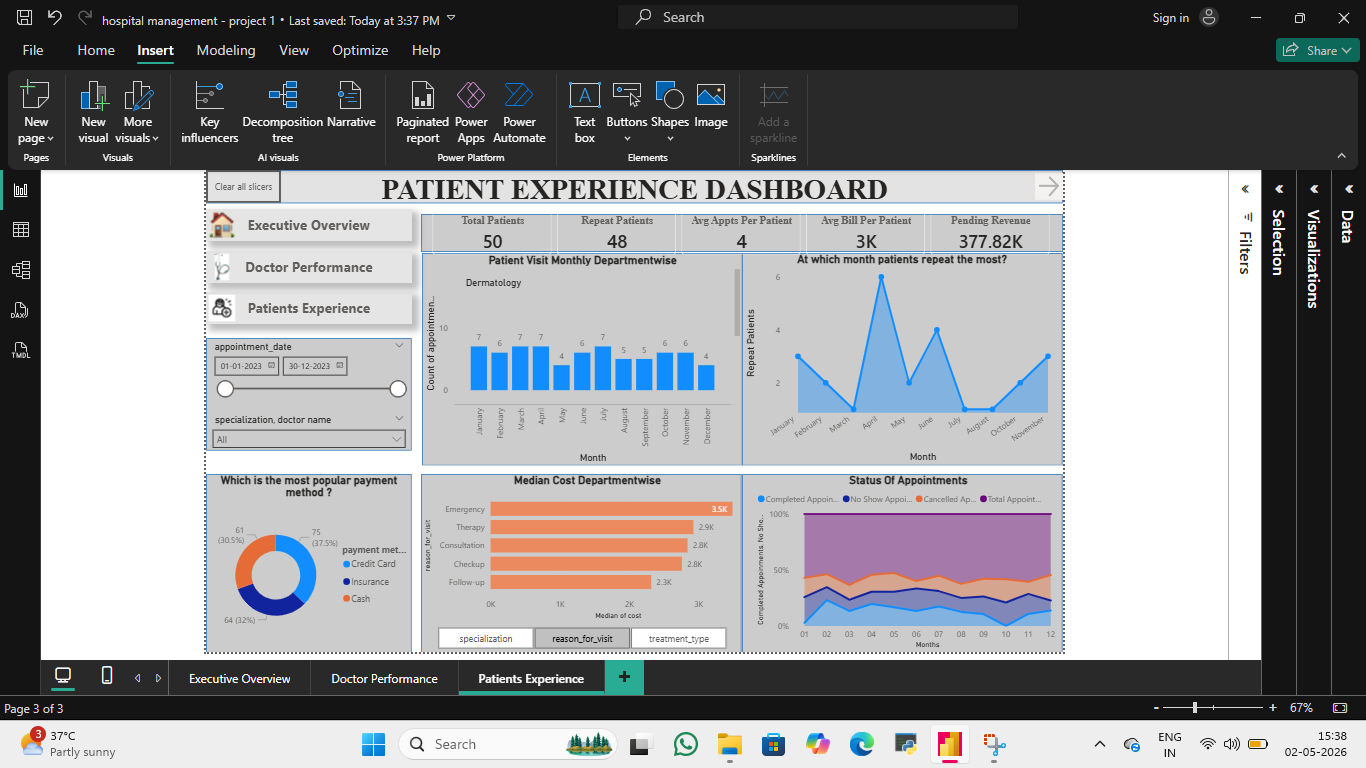

Layout of this report page (visuals, bound fields, positions):
{"tool":"powerbi","page":{"name":"Patients Experience","canvas":[1280,720],"ordinal":2},"visuals":[{"type":"shape","box":[0,0,1280,49.8],"z":0},{"type":"shape","box":[320.9,65.2,959.1,56.6],"z":0,"group":"g1"},{"type":"group","id":"g1","title":"Background","box":[0,65.2,1280,655.4],"z":1000},{"type":"textbox","box":[0,0,1280.2,65.7],"z":2000},{"type":"shape","box":[322.6,123.2,478.7,317.4],"z":2000,"group":"g1"},{"type":"shape","box":[801.3,453,478.7,267.7],"z":3000,"group":"g1"},{"type":"shape","box":[801.3,123.5,478.7,317.4],"z":4000},{"type":"shape","box":[320.9,453,478.7,267.7],"z":4000,"group":"g1"},{"type":"actionButton","box":[0,0,112,49.3],"z":5000},{"type":"shape","box":[0,453,307.1,267.7],"z":5000,"group":"g1"},{"type":"actionButton","box":[0,58.3,307.7,47.8],"z":6000},{"type":"shape","box":[0,250.5,307.1,168.2],"z":6000,"group":"g1"},{"type":"actionButton","box":[0,121,307.7,47.8],"z":7000},{"type":"actionButton","box":[0,182.2,307.7,47.8],"z":8000},{"type":"cardVisual","fields":{"Data":["_Measure.Total Patients","_Measure.Repeat Patients","_Measure.Avg Appoinments per Patient","_Measure.Avg Bill Per Patient","_Measure.Pending Revenue"]},"box":[320.9,46.3,959.1,97.8],"z":9000},{"type":"lineChart","title":"At which month patients repeat the most?","fields":{"Y":["_Measure.Repeat Patients"],"Category":["DateTable.Month"]},"box":[801.3,121.8,478.7,319.1],"z":10000},{"type":"hundredPercentStackedAreaChart","title":"Status Of Appointments","fields":{"Category":["DateTable.Months"],"Y":["_Measure.Completed Appoinments","_Measure.No Show Appoinments","_Measure.Cancelled Appoinments","_Measure.Total Appointments"]},"box":[818.6,452.6,461.6,267.4],"z":11000},{"type":"clusteredBarChart","title":"Median Cost Departmentwise","fields":{"Category":["doctors.specialization"],"Y":["Median(treatments.cost)"]},"box":[320.9,453,497.6,223.1],"z":12000},{"type":"slicer","fields":{"Values":["Select Department.Select Department"]},"box":[320.9,676,480.4,44.6],"z":13000},{"type":"columnChart","title":"Patient Visit Monthly Departmentwise","fields":{"Category":["DateTable.Month"],"Rows":["doctors.specialization"],"Y":["CountNonNull(treatments.appointment_id)"]},"box":[322.7,124,481,318.2],"z":14000},{"type":"donutChart","title":"Which is the most popular payment method ?","fields":{"Y":["CountNonNull(billing.payment_method)"],"Category":["billing.payment_method"]},"box":[0,452.6,307.7,267.4],"z":15000},{"type":"slicer","fields":{"Values":["appointments.appointment_date Hierarchy.appointment_date"]},"box":[0,251,307.7,167.3],"z":16000},{"type":"slicer","fields":{"Values":["doctors.specialization","doctors.doctor_name"]},"box":[0,360,307.7,70.2],"z":17000}]}

Visuals, with their boxes on the page's 1280x720 design canvas (x1, y1, x2, y2). These are canvas units, not pixel positions in the 1366x768 screenshot, which may show the page scaled, cropped or inside an application window:
shape: box(0, 0, 1280, 50)
shape: box(321, 65, 1280, 122)
"Background" group: box(0, 65, 1280, 721)
textbox: box(0, 0, 1280, 66)
shape: box(323, 123, 801, 441)
shape: box(801, 453, 1280, 721)
shape: box(801, 124, 1280, 441)
shape: box(321, 453, 800, 721)
actionButton: box(0, 0, 112, 49)
shape: box(0, 453, 307, 721)
actionButton: box(0, 58, 308, 106)
shape: box(0, 250, 307, 419)
actionButton: box(0, 121, 308, 169)
actionButton: box(0, 182, 308, 230)
cardVisual - _Measure.Total Patients x _Measure.Repeat Patients: box(321, 46, 1280, 144)
"At which month patients repeat the most?" lineChart: box(801, 122, 1280, 441)
"Status Of Appointments" hundredPercentStackedAreaChart: box(819, 453, 1280, 720)
"Median Cost Departmentwise" clusteredBarChart: box(321, 453, 818, 676)
slicer - Select Department.Select Department: box(321, 676, 801, 721)
"Patient Visit Monthly Departmentwise" columnChart: box(323, 124, 804, 442)
"Which is the most popular payment method ?" donutChart: box(0, 453, 308, 720)
slicer - appointments.appointment_date Hierarchy.appointment_date: box(0, 251, 308, 418)
slicer - doctors.specialization x doctors.doctor_name: box(0, 360, 308, 430)
